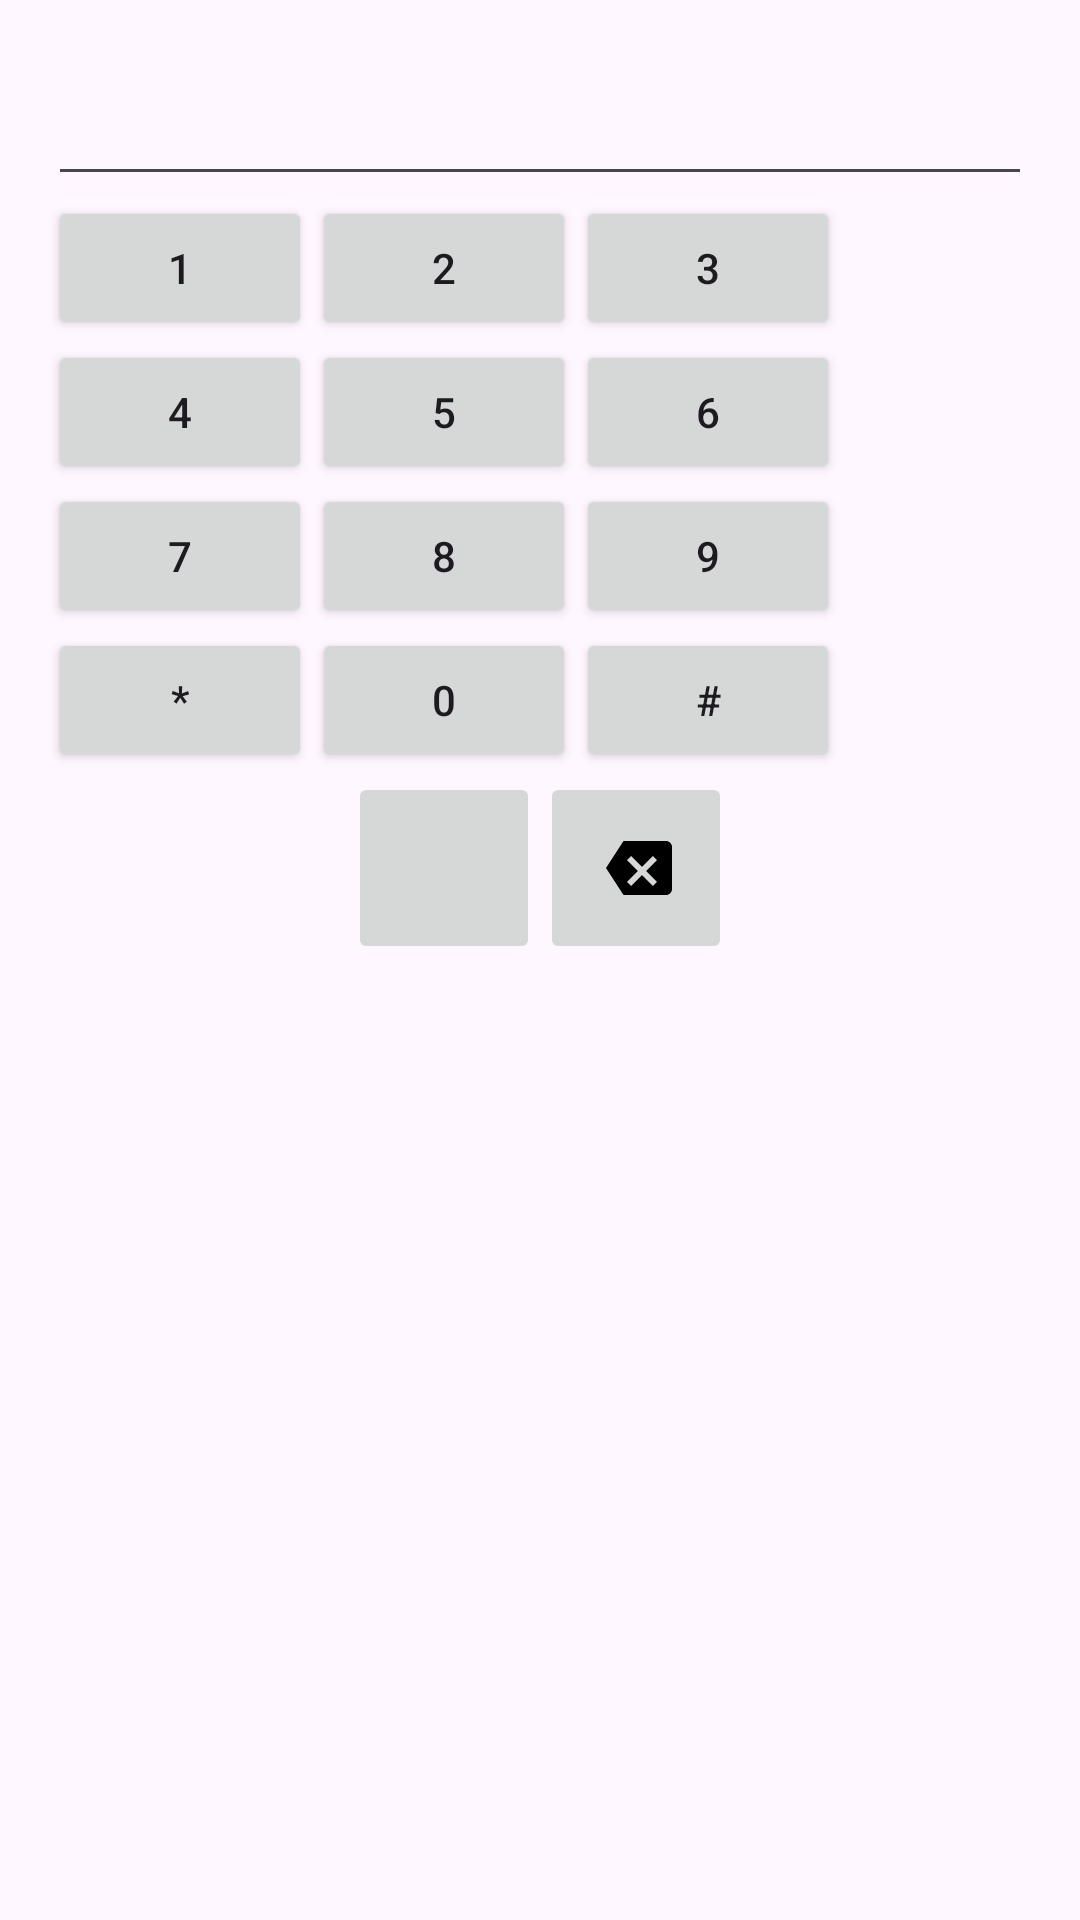

Icons on this 1080x1920 Android screen, each with its box as (x1, y1, x2, y2):
backspace: (552, 790, 720, 946)
